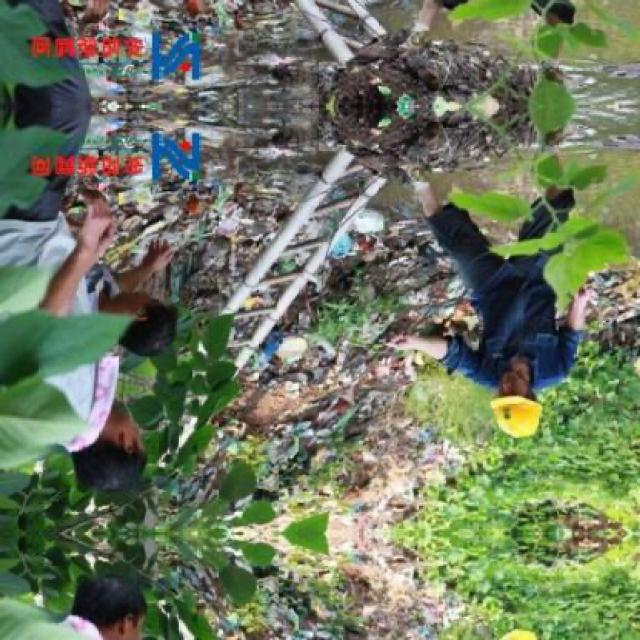con casco: (491, 362, 559, 449)
